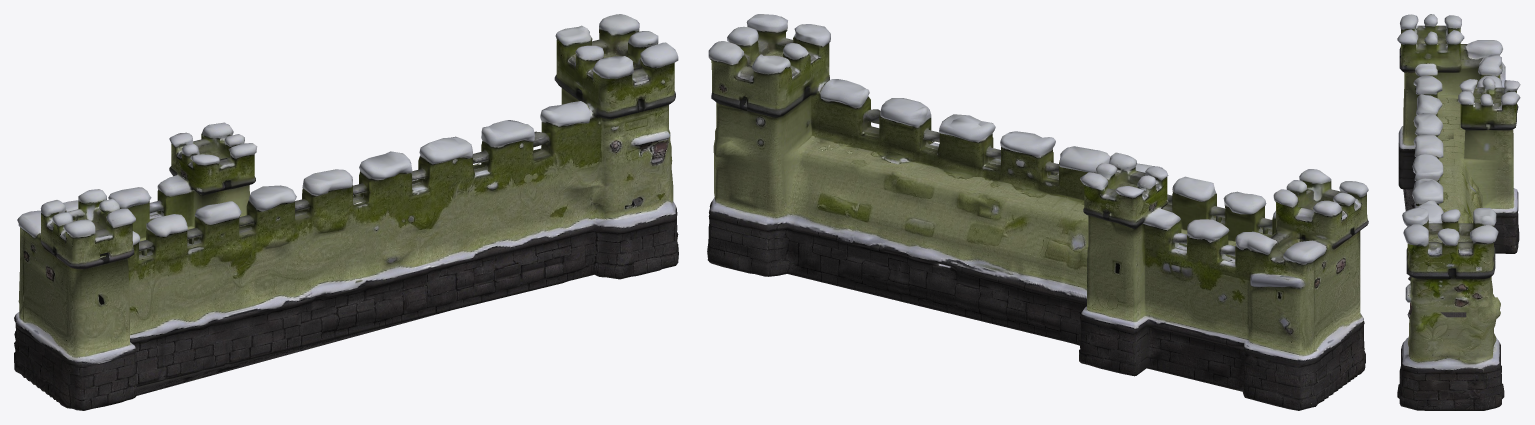
The model's file is chengqiang3.fbx.
3 views of the same model, side by side, from view 1: azimuth 30°, elevation 25°; view 2: azimuth 150°, elevation 25°; view 3: azimuth 270°, elevation 25° (orthographic). The views are drawn at different scales.
Parts seen in each view (by area): view 1: tripo_node_462e3f0d; view 2: tripo_node_462e3f0d; view 3: tripo_node_462e3f0d.
Part boxes in pixels (left/top/right/bottom): tripo_node_462e3f0d: left=14, top=14, right=678, bottom=410; tripo_node_462e3f0d: left=707, top=14, right=1368, bottom=410; tripo_node_462e3f0d: left=1397, top=14, right=1520, bottom=410.
Size of the model in its own units: 99.8 by 20.94 by 32.68.
Materials: 1 (1 with a texture image).
